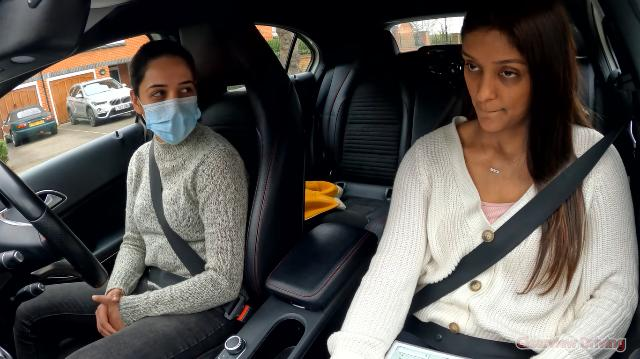seatbelt: (408, 118, 628, 318), (108, 128, 292, 306)
